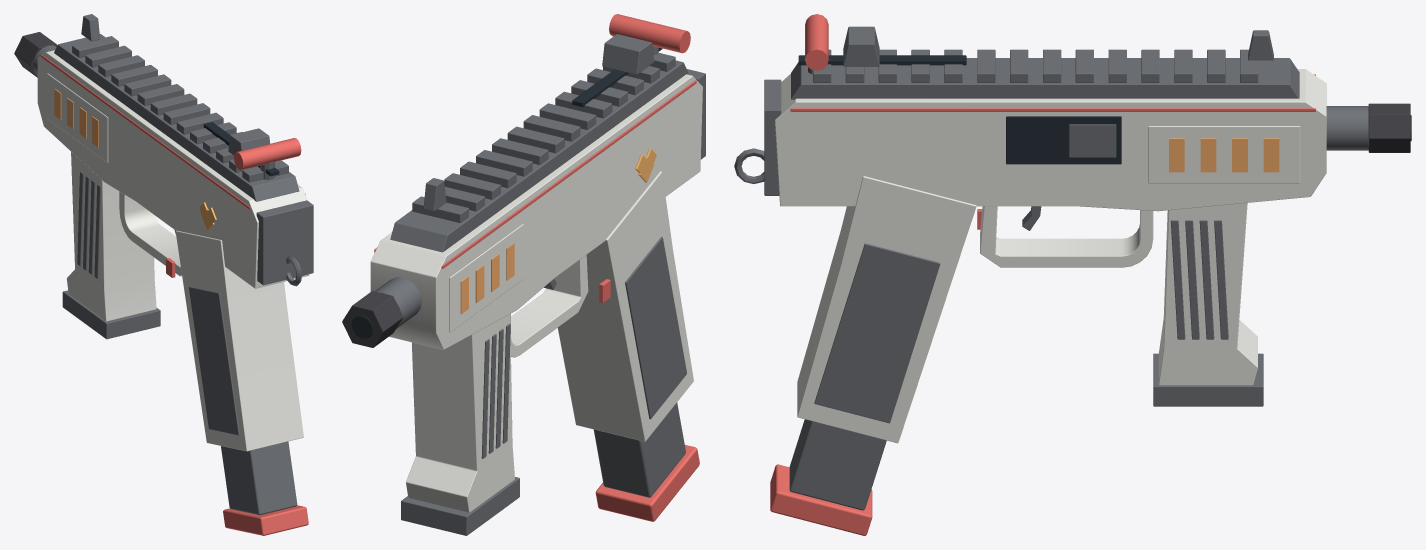
File: machine_pistol.glb
3 views of the same model, side by side, from view 1: azimuth 30°, elevation 25°; view 2: azimuth 150°, elevation 25°; view 3: azimuth 270°, elevation 25° (orthographic). The views are drawn at different scales.
Parts seen in each view (by area): view 1: Upper, MagBase, Slide, Vents; view 2: Upper, MagBase, Slide, Vents; view 3: Upper, MagBase, Vents, Slide.
Boxes of the visible parts, x1=… form: Upper: x1=14, y1=14, x2=313, y2=451; MagBase: x1=221, y1=441, x2=308, y2=535; Slide: x1=234, y1=138, x2=301, y2=179; Vents: x1=54, y1=89, x2=98, y2=147; Upper: x1=342, y1=34, x2=705, y2=535; MagBase: x1=593, y1=402, x2=699, y2=521; Slide: x1=609, y1=14, x2=690, y2=55; Vents: x1=460, y1=243, x2=514, y2=314; Upper: x1=734, y1=26, x2=1411, y2=443; MagBase: x1=770, y1=419, x2=886, y2=535; Vents: x1=1169, y1=138, x2=1279, y2=172; Slide: x1=805, y1=14, x2=828, y2=74.
Size of the model in its own units: 0.0408 by 0.2473 by 0.3094.
